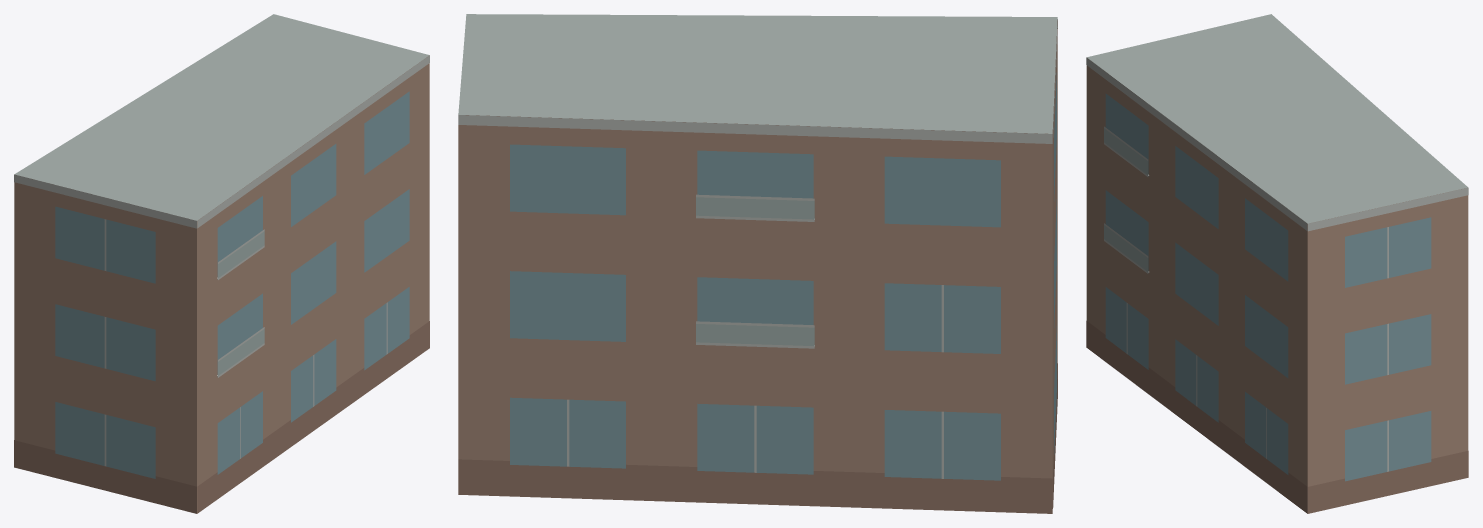
Rendered from survey-upis-32948664.glb.
3 views of the same model, side by side, from view 1: azimuth 30°, elevation 25°; view 2: azimuth 150°, elevation 25°; view 3: azimuth 270°, elevation 25° (orthographic). The views are drawn at different scales.
Parts seen in each view (by area): view 1: survey-upis-32948664.tmp; view 2: survey-upis-32948664.tmp; view 3: survey-upis-32948664.tmp.
Boxes of the visible parts, x1,y1,x2,y2 form: survey-upis-32948664.tmp: (14, 14, 429, 513); survey-upis-32948664.tmp: (458, 14, 1057, 513); survey-upis-32948664.tmp: (1086, 14, 1468, 513).
Bounding box in the file's own units: 14.19 × 9.15 × 10.92.
